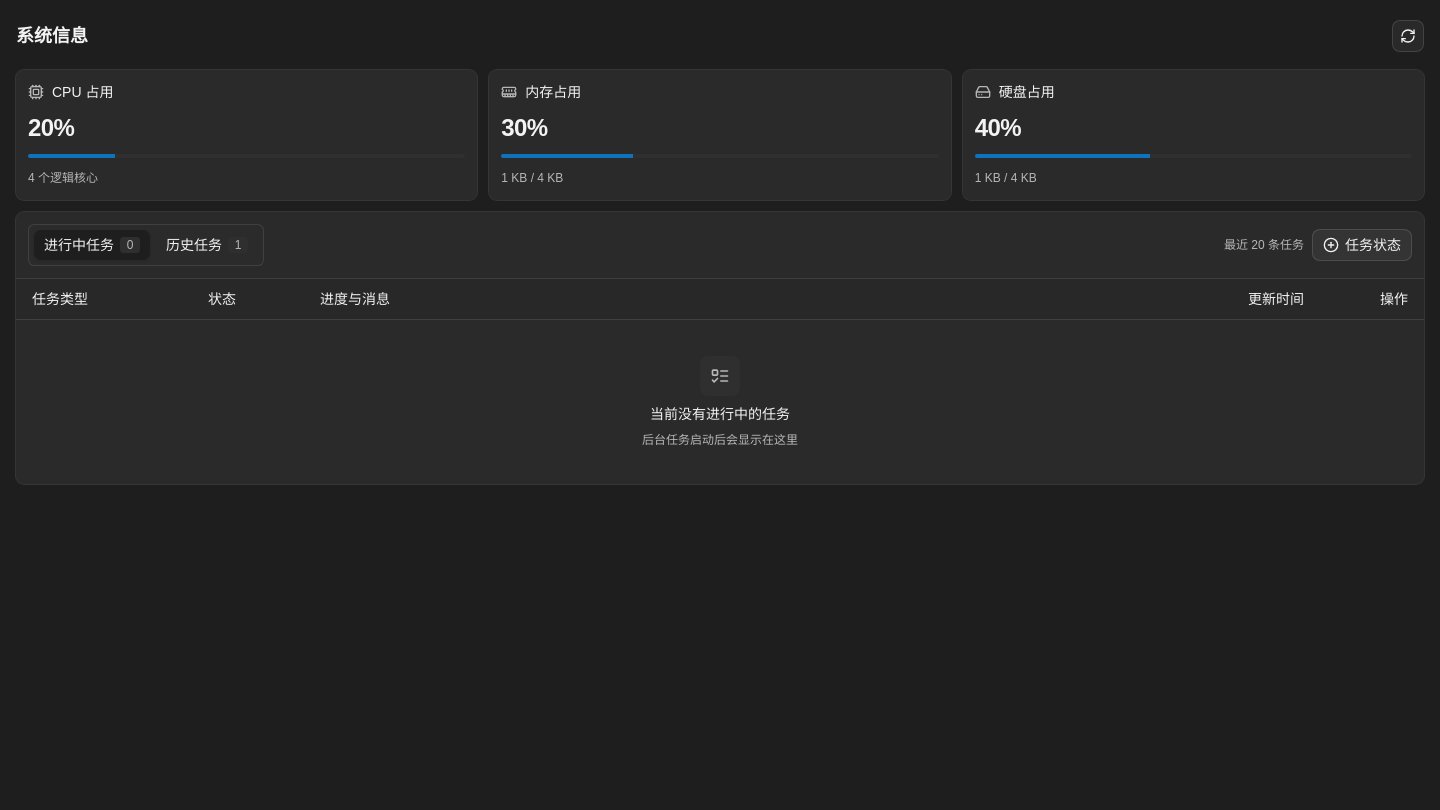
Test: 旧探活详情使用后端限定范围的展示名称，不再读取完整账号目录
The width and height of the screenshot is (1440, 810).
Click the tab "历史任务 1".
click(207, 245)  # box [155,229,259,261]
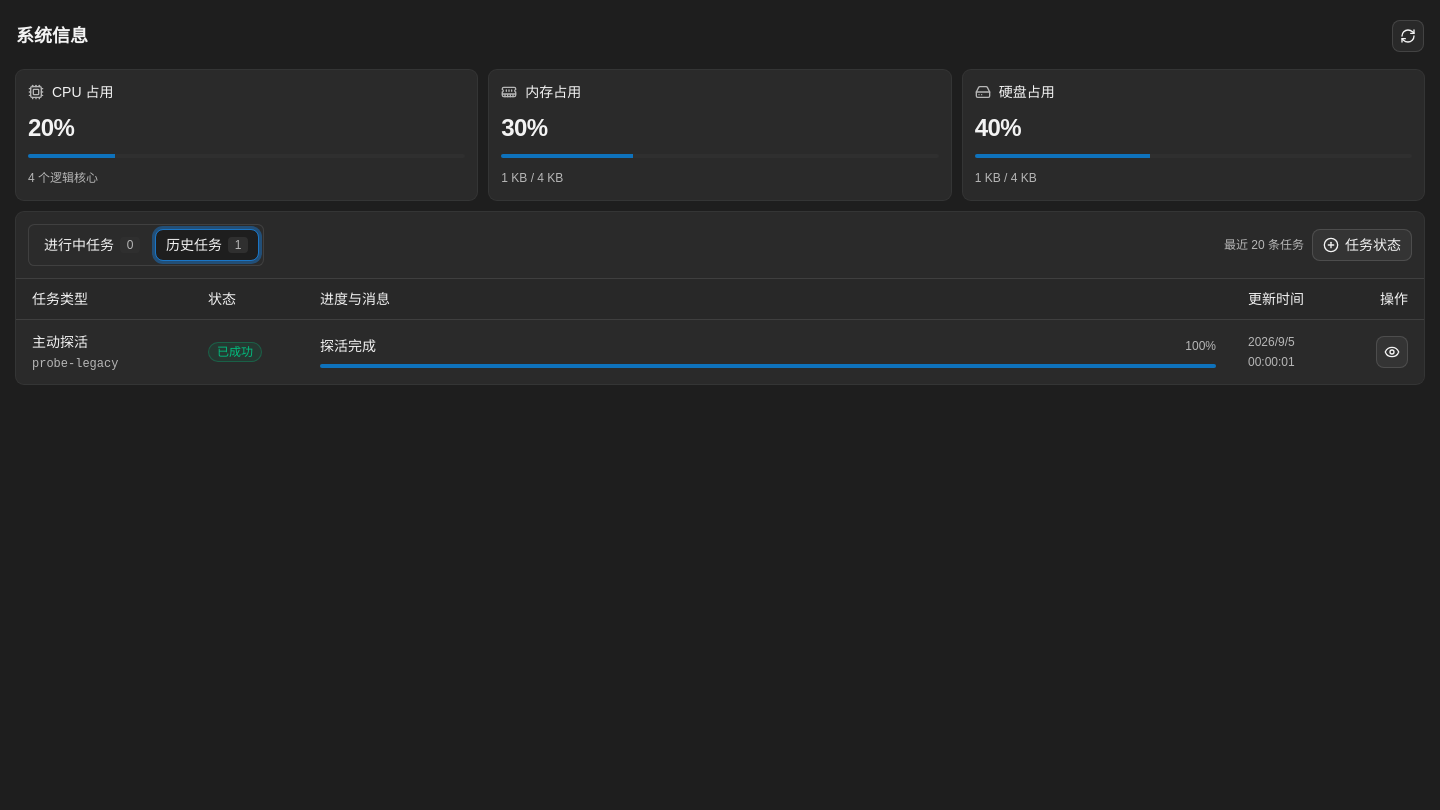
Click the button named "查看任务".
click(1392, 352)  # box [1376,336,1408,368]
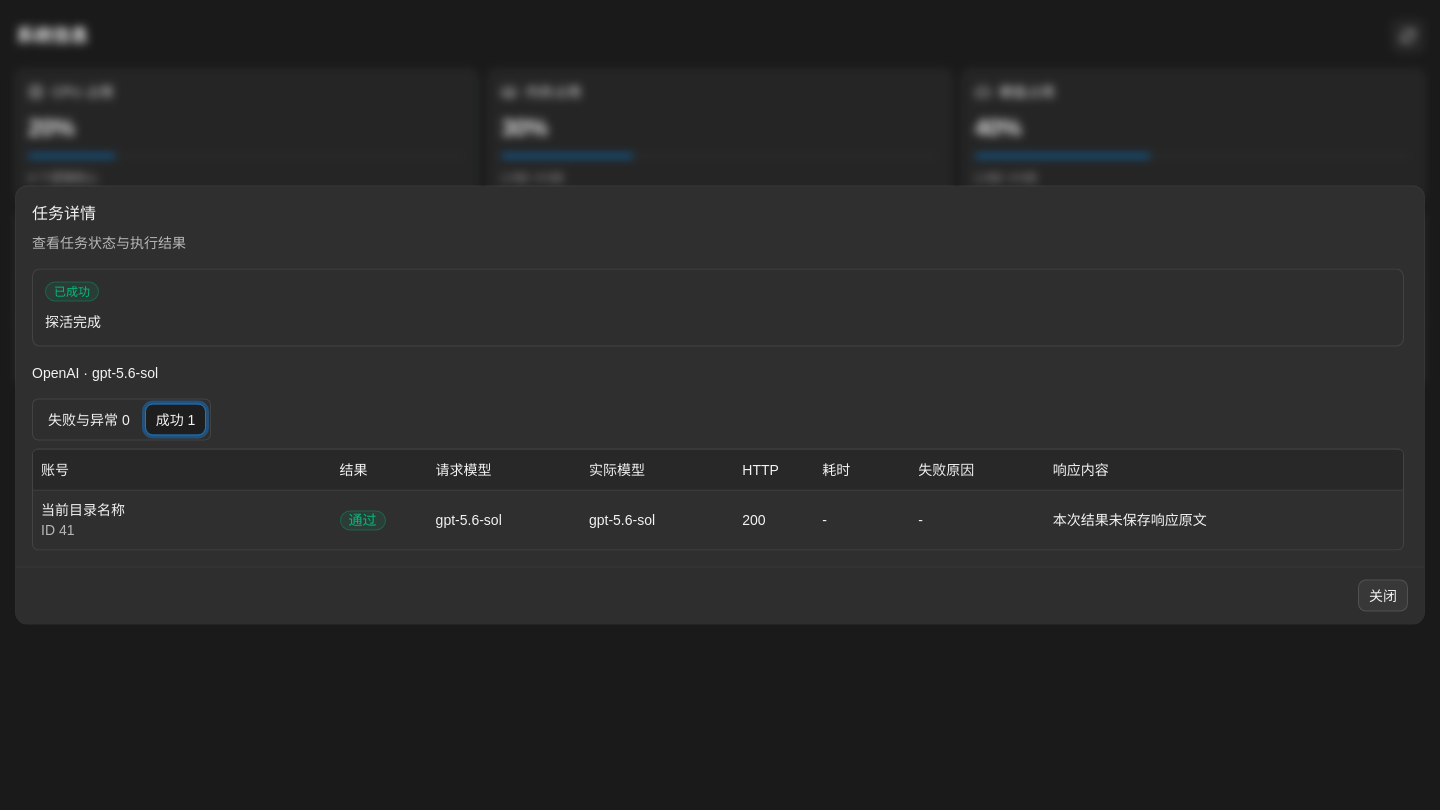
Result: the text "当前目录名称" is shown at [41,502,125,518]
